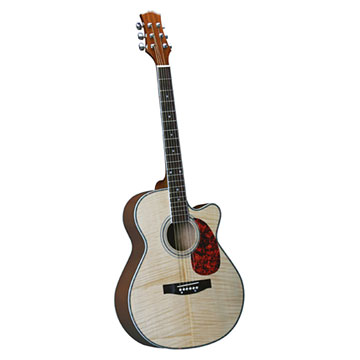guitar: (113, 8, 246, 351)
